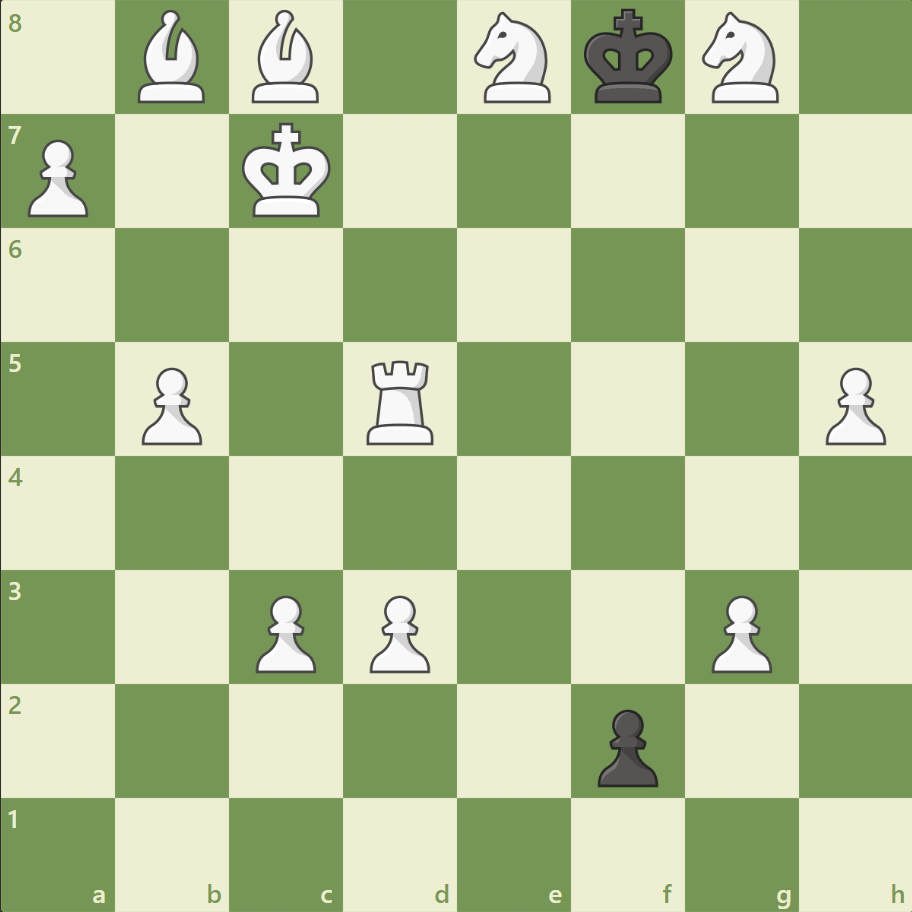B: (131, 6, 215, 109), (244, 6, 328, 109)
K: (238, 117, 338, 225)
N: (465, 7, 562, 110), (692, 7, 789, 110)
P: (20, 132, 95, 223), (133, 359, 208, 450), (247, 586, 322, 677), (701, 586, 776, 677), (815, 359, 889, 450), (361, 586, 435, 677)
R: (360, 352, 442, 449)
k: (579, 4, 679, 112)
p: (588, 700, 662, 791)
